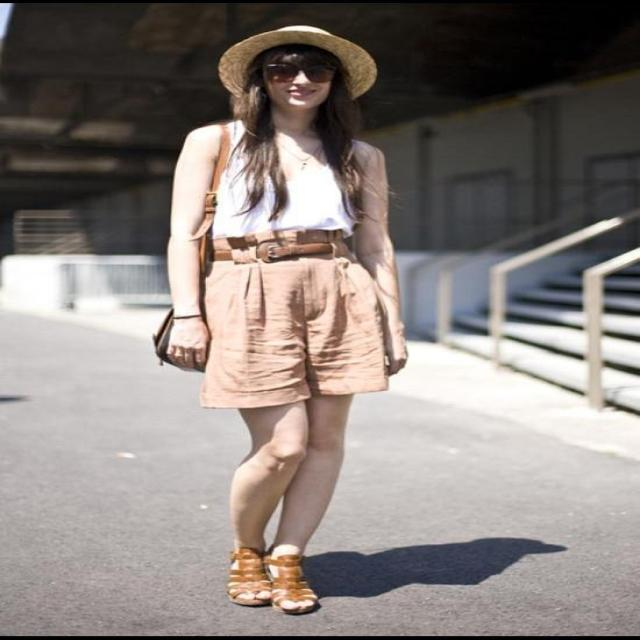Tshirt: (210, 118, 359, 240)
skirt: (199, 228, 410, 408)
